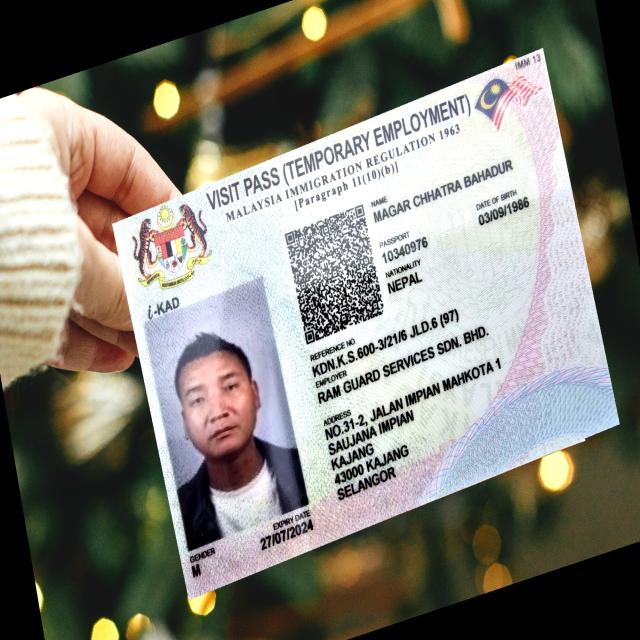ikad-temp: (110, 46, 620, 599)
